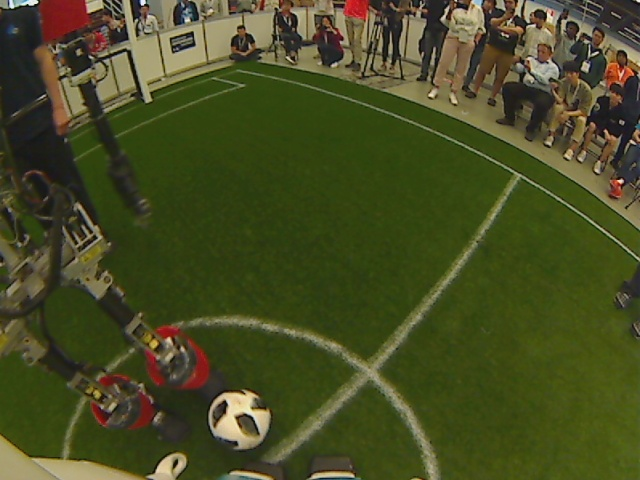ball: (206, 386, 275, 455)
